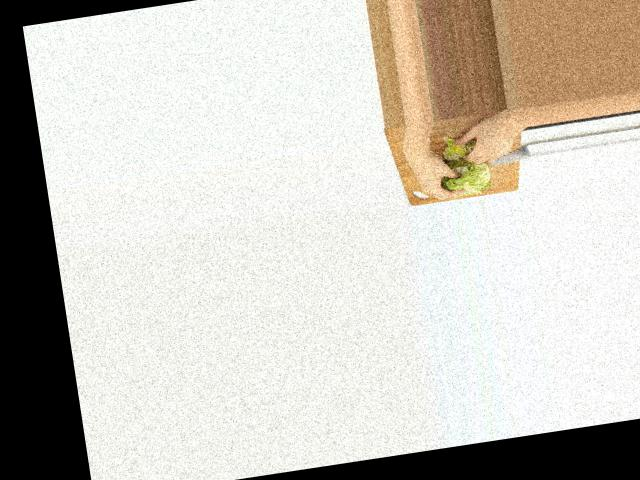lettuce: (441, 157, 493, 197)
